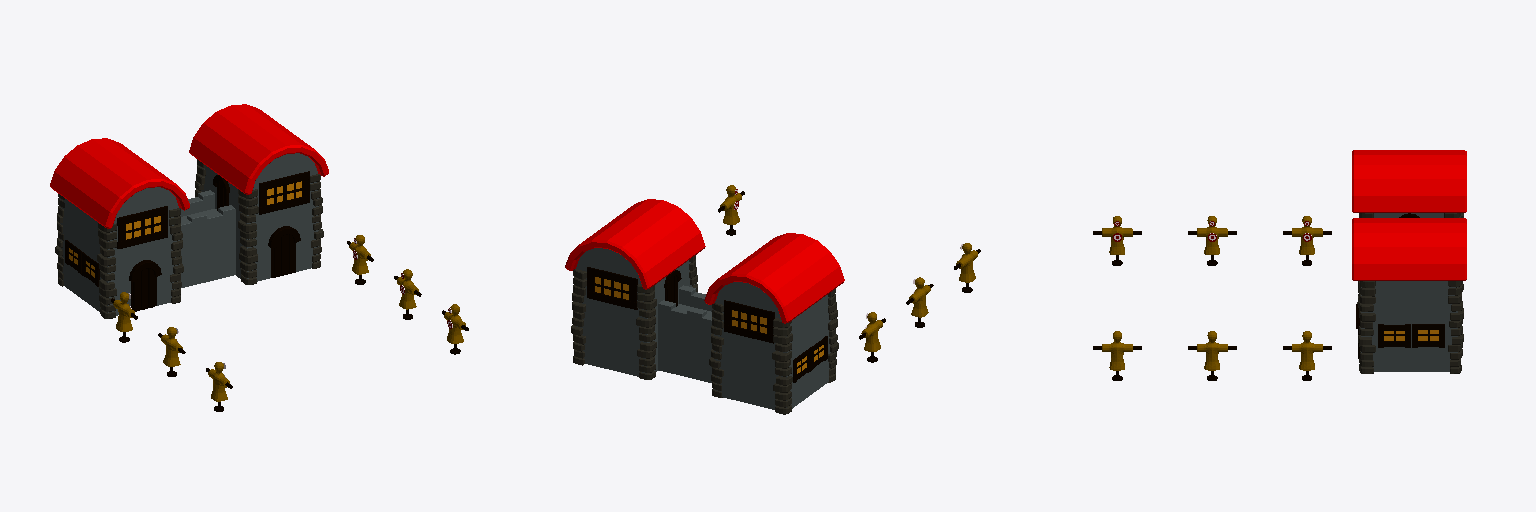
Rendered from GuardsBarracks_RedTeam.obj.
3 views of the same model, side by side, from view 1: azimuth 30°, elevation 25°; view 2: azimuth 150°, elevation 25°; view 3: azimuth 270°, elevation 25° (orthographic).
Parts seen in each view (by area): view 1: GuardBarracks_RedTeam_Cylinder.015; view 2: GuardBarracks_RedTeam_Cylinder.015; view 3: GuardBarracks_RedTeam_Cylinder.015.
Part boxes in pixels (x1,y1,x2,y2): GuardBarracks_RedTeam_Cylinder.015: (50,104,468,411); GuardBarracks_RedTeam_Cylinder.015: (565,185,980,414); GuardBarracks_RedTeam_Cylinder.015: (1093,150,1466,380).
Bounding box in the file's own units: 21.2 × 10.84 × 27.61.